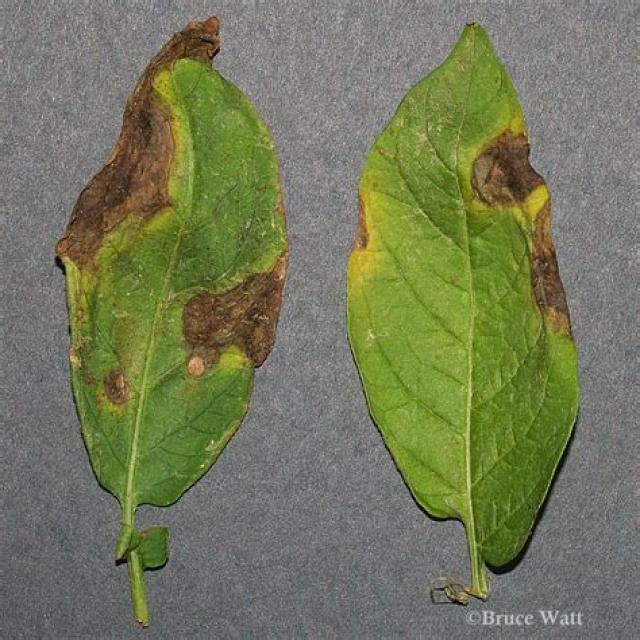blight: (40, 16, 222, 281), (453, 117, 602, 356), (180, 226, 312, 422)
